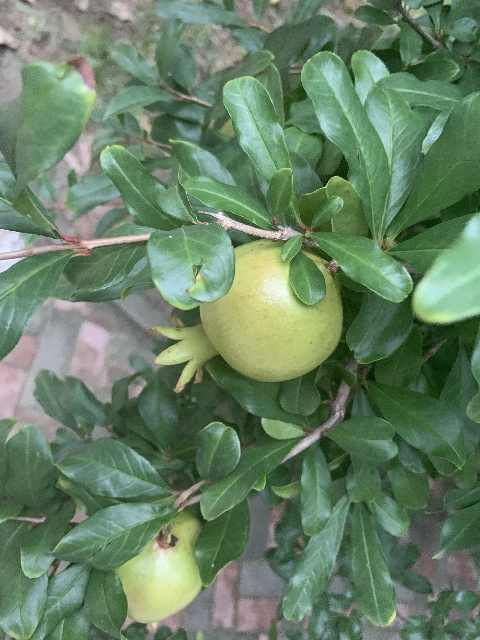mid-growth: (149, 239, 343, 391), (113, 507, 203, 630)
